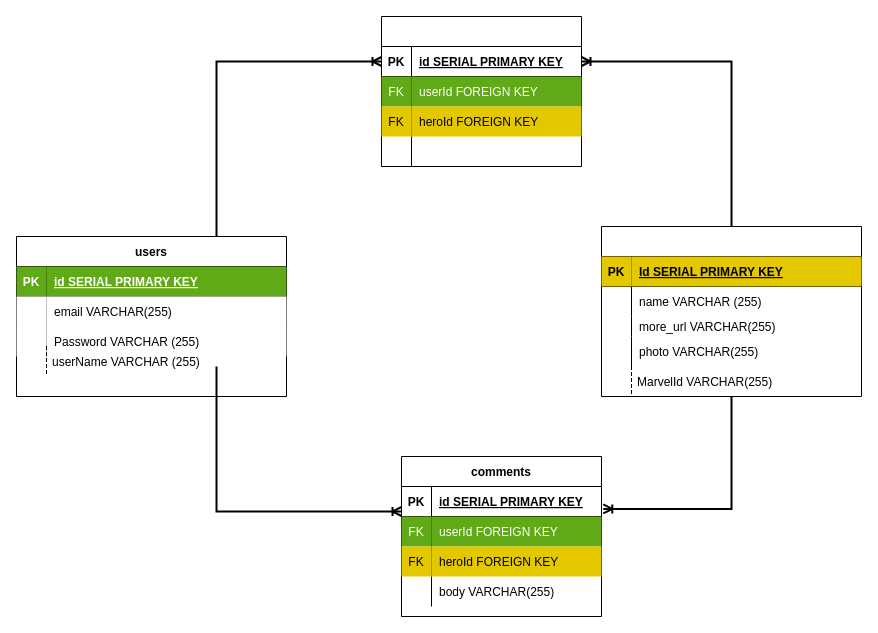
This 878x633 diagram has some shape labels left out. Each missing label, with the box of its shape:
heroes: (600, 226, 862, 396)
users_heroes: (380, 16, 582, 166)
